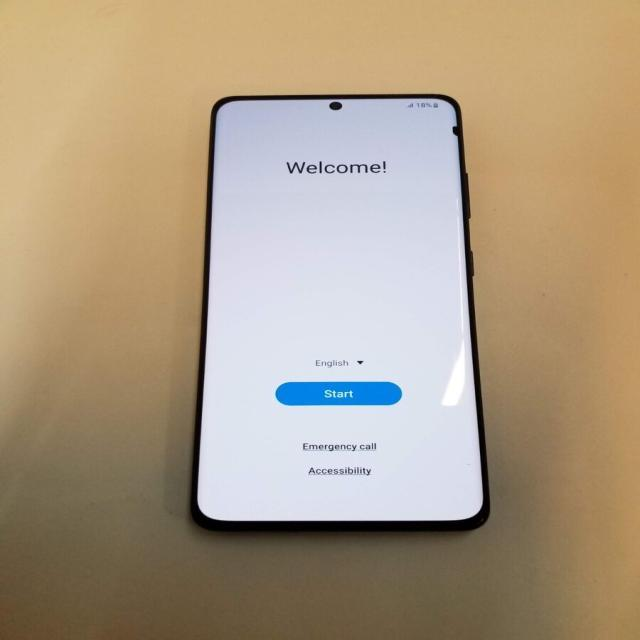dead pixel: (421, 111, 486, 149)
